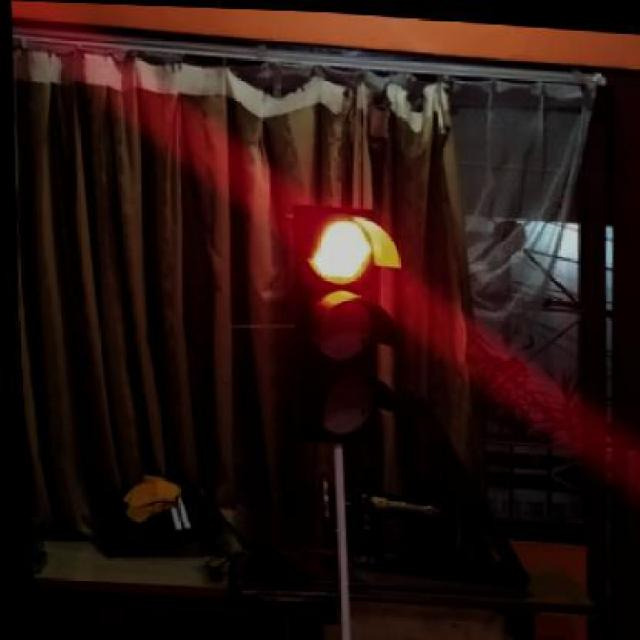red_light: (282, 205, 407, 443)
